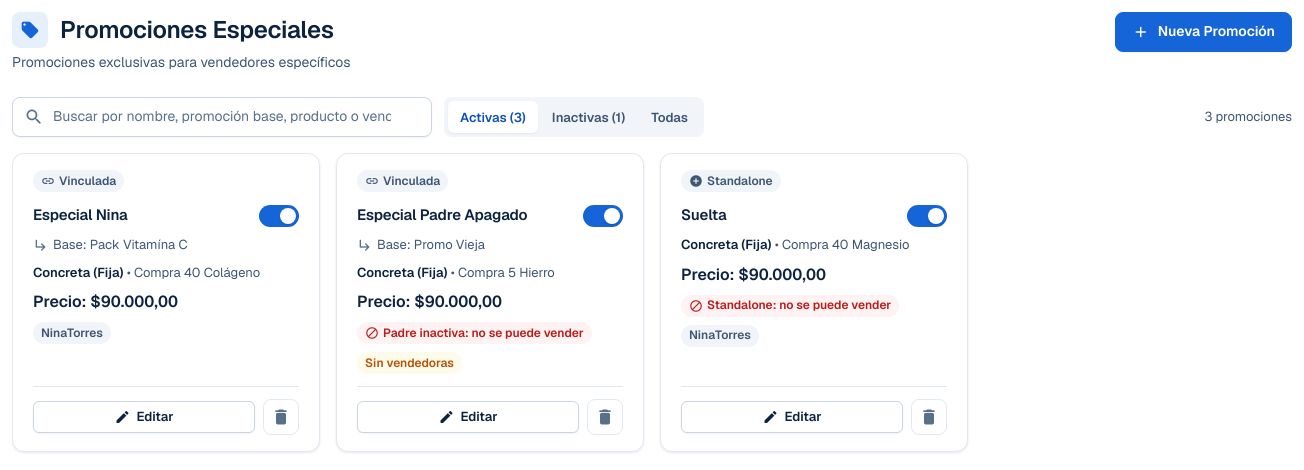
Test: busca sin tildes por promoción base, vendedora y regalos del padre
This screenshot has width=1304, height=470.
Expected: the heading "Especial Nina" is shown, [33,204,128,225]
Type "vitamina" into the field with placeholder "Buscar por nombre, promoción base, producto o vendedora..." at x=222, y=117, box [12,97,432,137]
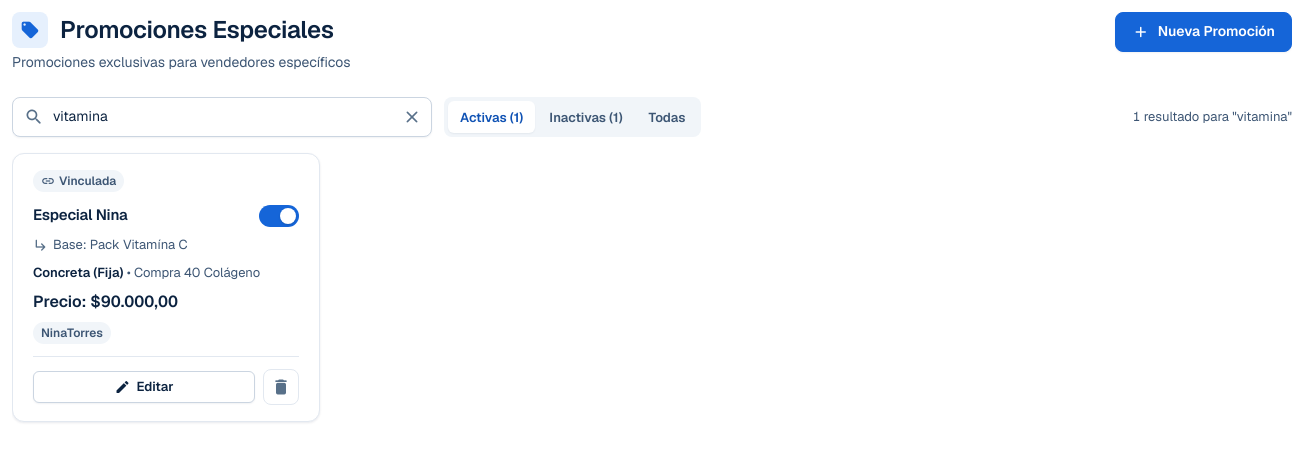
Expected: the heading "Especial Nina" is shown, [33,204,128,225]
Expected: the heading "Suelta" is gone
Replace the text in the field with placeholder "Buscar por nombre, promoción base, producto o vendedora..." with "ninatorres" at x=222, y=117, box [12,97,432,137]
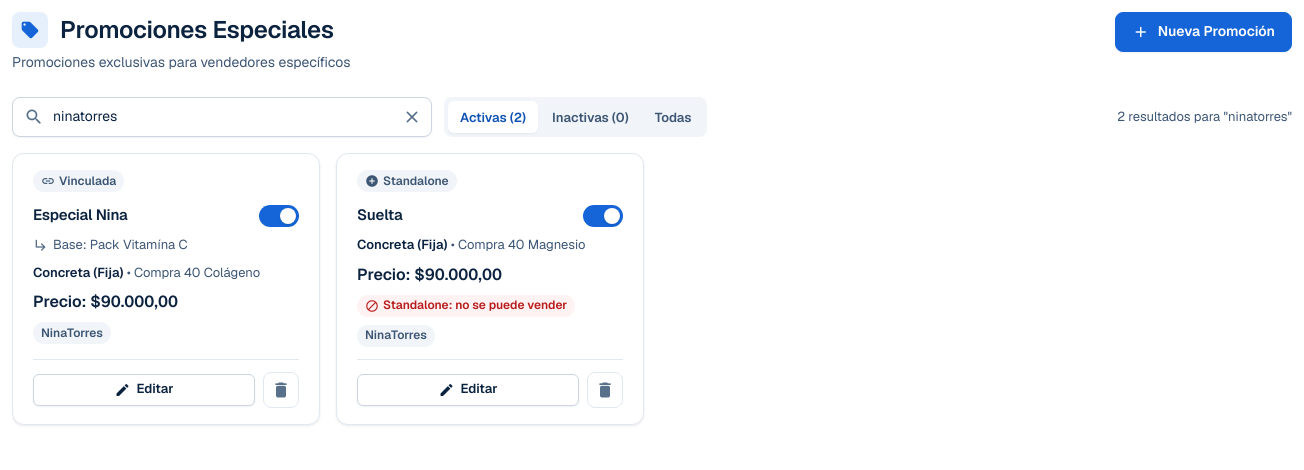
Expected: the heading "Especial Nina" is shown, [33,204,128,225]
Expected: the heading "Suelta" is shown, [357,204,402,225]
Replace the text in the field with placeholder "Buscar por nombre, promoción base, producto o vendedora..." with "omega" at x=222, y=117, box [12,97,432,137]
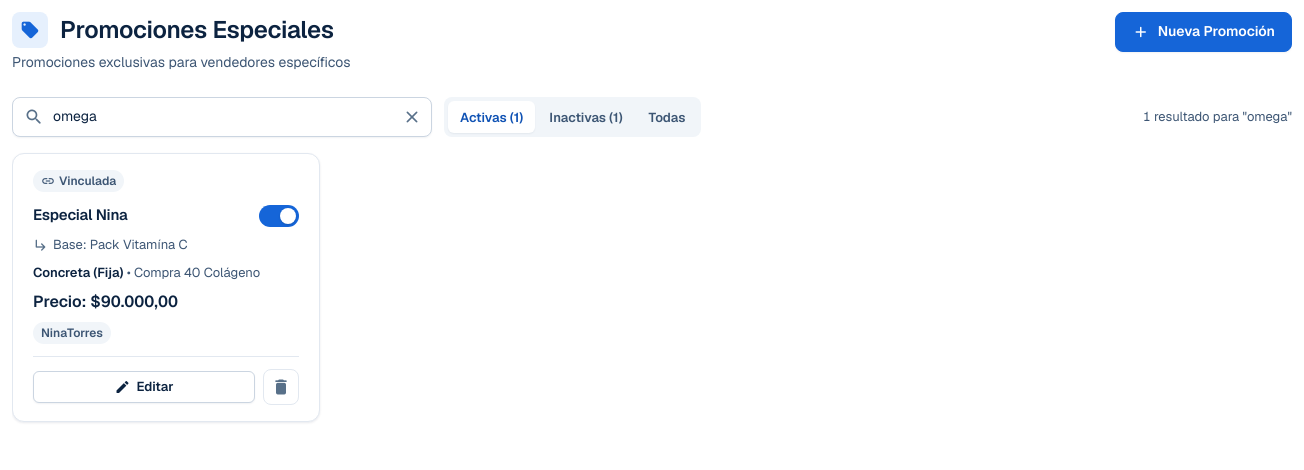
Expected: the heading "Especial Nina" is shown, [33,204,128,225]
Expected: the heading "Suelta" is gone
Replace the text in the field with placeholder "Buscar por nombre, promoción base, producto o vendedora..." with "xyz" at x=222, y=117, box [12,97,432,137]
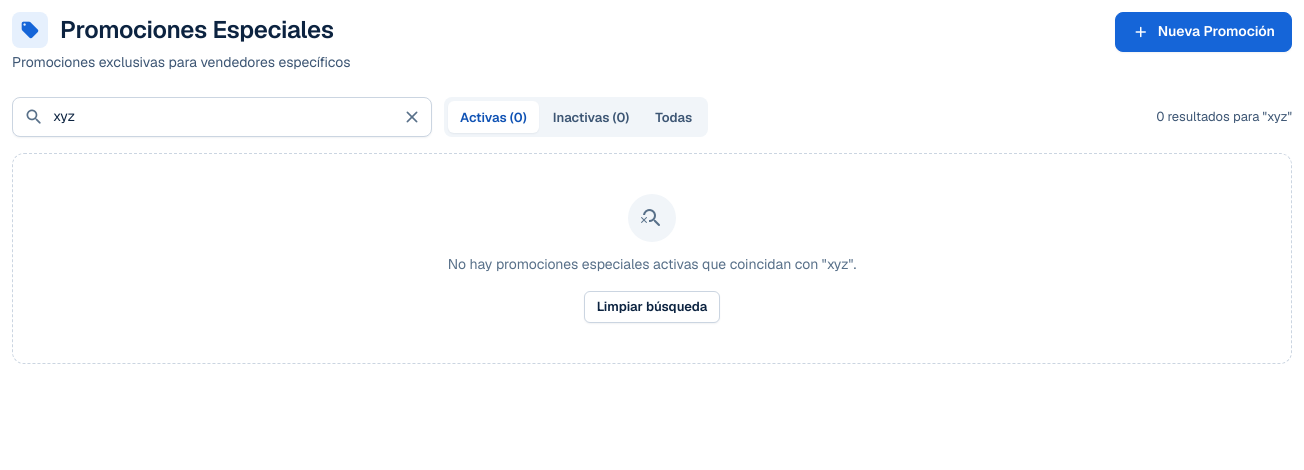
Expected: the text "No hay promociones especiales activas que coincidan con \"xyz\"." is shown, [448,254,856,275]
